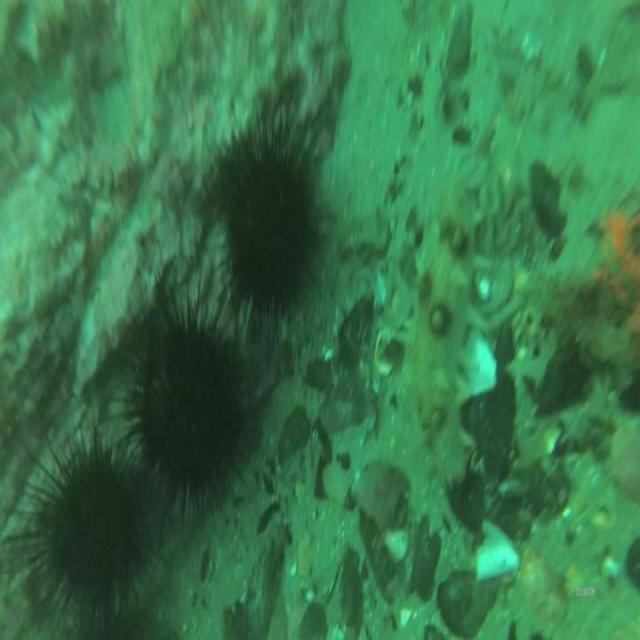echinus: (117, 278, 260, 526), (2, 423, 162, 640), (198, 101, 332, 351)
holothurian: (404, 180, 490, 485)
